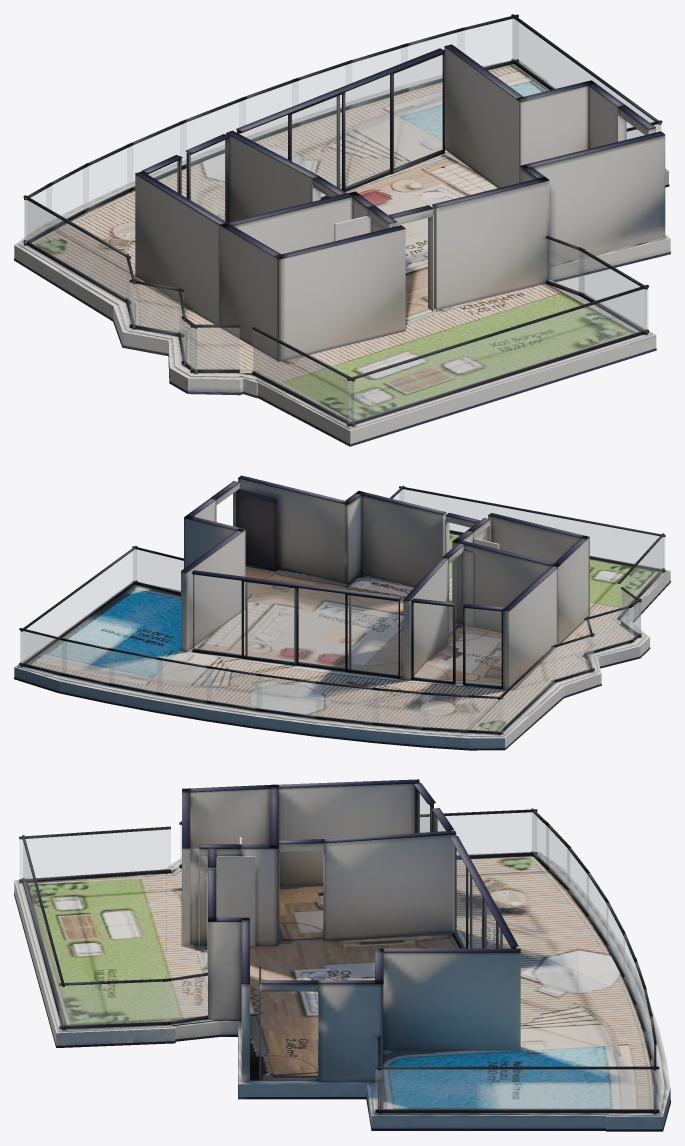
3 views of the same model, one above another, from view 1: azimuth 30°, elevation 25°; view 2: azimuth 150°, elevation 25°; view 3: azimuth 270°, elevation 25° (orthographic). The views are drawn at different scales.
Visible parts, largest first — view 1: plan, glass2_m, railg1_m, railg20_m, railg2_m, railg14_m, railg0_m, glass1_m, railg12_m, railg18_m, railg7_m, railg5_m (+9 smaller); view 2: plan, glass2_m, railg1_m, railg14_m, glass1_m, glass0_m, railg7_m, railg6_m, railg5_m, railg8_m, railg20_m, railg9_m (+10 smaller); view 3: plan, railg14_m, railg2_m, railg0_m, railg20_m, glass2_m, railg21_m, railg1_m, railg4_m, railg5_m, railg6_m, railg7_m (+2 smaller).
Boxes of the visible parts, x1=… form: plan: x1=14, y1=14, x2=670, y2=446; glass2_m: x1=239, y1=55, x2=442, y2=197; railg1_m: x1=348, y1=289, x2=647, y2=422; railg20_m: x1=24, y1=200, x2=130, y2=300; railg2_m: x1=253, y1=330, x2=353, y2=423; railg14_m: x1=512, y1=19, x2=660, y2=138; railg0_m: x1=579, y1=251, x2=646, y2=331; glass1_m: x1=191, y1=140, x2=225, y2=220; railg12_m: x1=457, y1=19, x2=517, y2=67; railg18_m: x1=130, y1=283, x2=183, y2=333; railg7_m: x1=180, y1=100, x2=245, y2=165; railg5_m: x1=83, y1=146, x2=132, y2=209; plan: x1=14, y1=475, x2=670, y2=750; glass2_m: x1=193, y1=574, x2=398, y2=675; railg1_m: x1=400, y1=489, x2=664, y2=569; railg14_m: x1=21, y1=549, x2=136, y2=663; glass1_m: x1=414, y1=603, x2=452, y2=681; glass0_m: x1=465, y1=608, x2=501, y2=686; railg7_m: x1=256, y1=676, x2=321, y2=716; railg6_m: x1=316, y1=684, x2=378, y2=722; railg5_m: x1=373, y1=690, x2=428, y2=727; railg8_m: x1=206, y1=668, x2=261, y2=708; railg20_m: x1=499, y1=648, x2=555, y2=732; railg9_m: x1=157, y1=660, x2=211, y2=701; plan: x1=14, y1=779, x2=670, y2=1131; railg14_m: x1=375, y1=1069, x2=658, y2=1109; railg2_m: x1=19, y1=829, x2=170, y2=879; railg0_m: x1=59, y1=981, x2=170, y2=1025; railg20_m: x1=420, y1=812, x2=536, y2=855; glass2_m: x1=453, y1=844, x2=510, y2=948; railg21_m: x1=163, y1=976, x2=207, y2=1021; railg1_m: x1=23, y1=843, x2=63, y2=1026; railg4_m: x1=546, y1=826, x2=569, y2=889; railg5_m: x1=567, y1=848, x2=588, y2=914; railg6_m: x1=587, y1=875, x2=608, y2=943; railg7_m: x1=606, y1=904, x2=624, y2=975.
Size of the model in its own units: 13.31 by 2.62 by 13.7.
2 materials, 1 textured.
